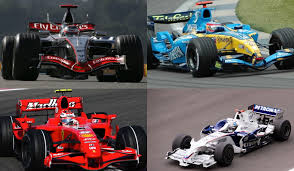f1_car: (1, 85, 149, 171), (1, 3, 146, 88), (145, 1, 294, 82), (160, 96, 294, 170)
